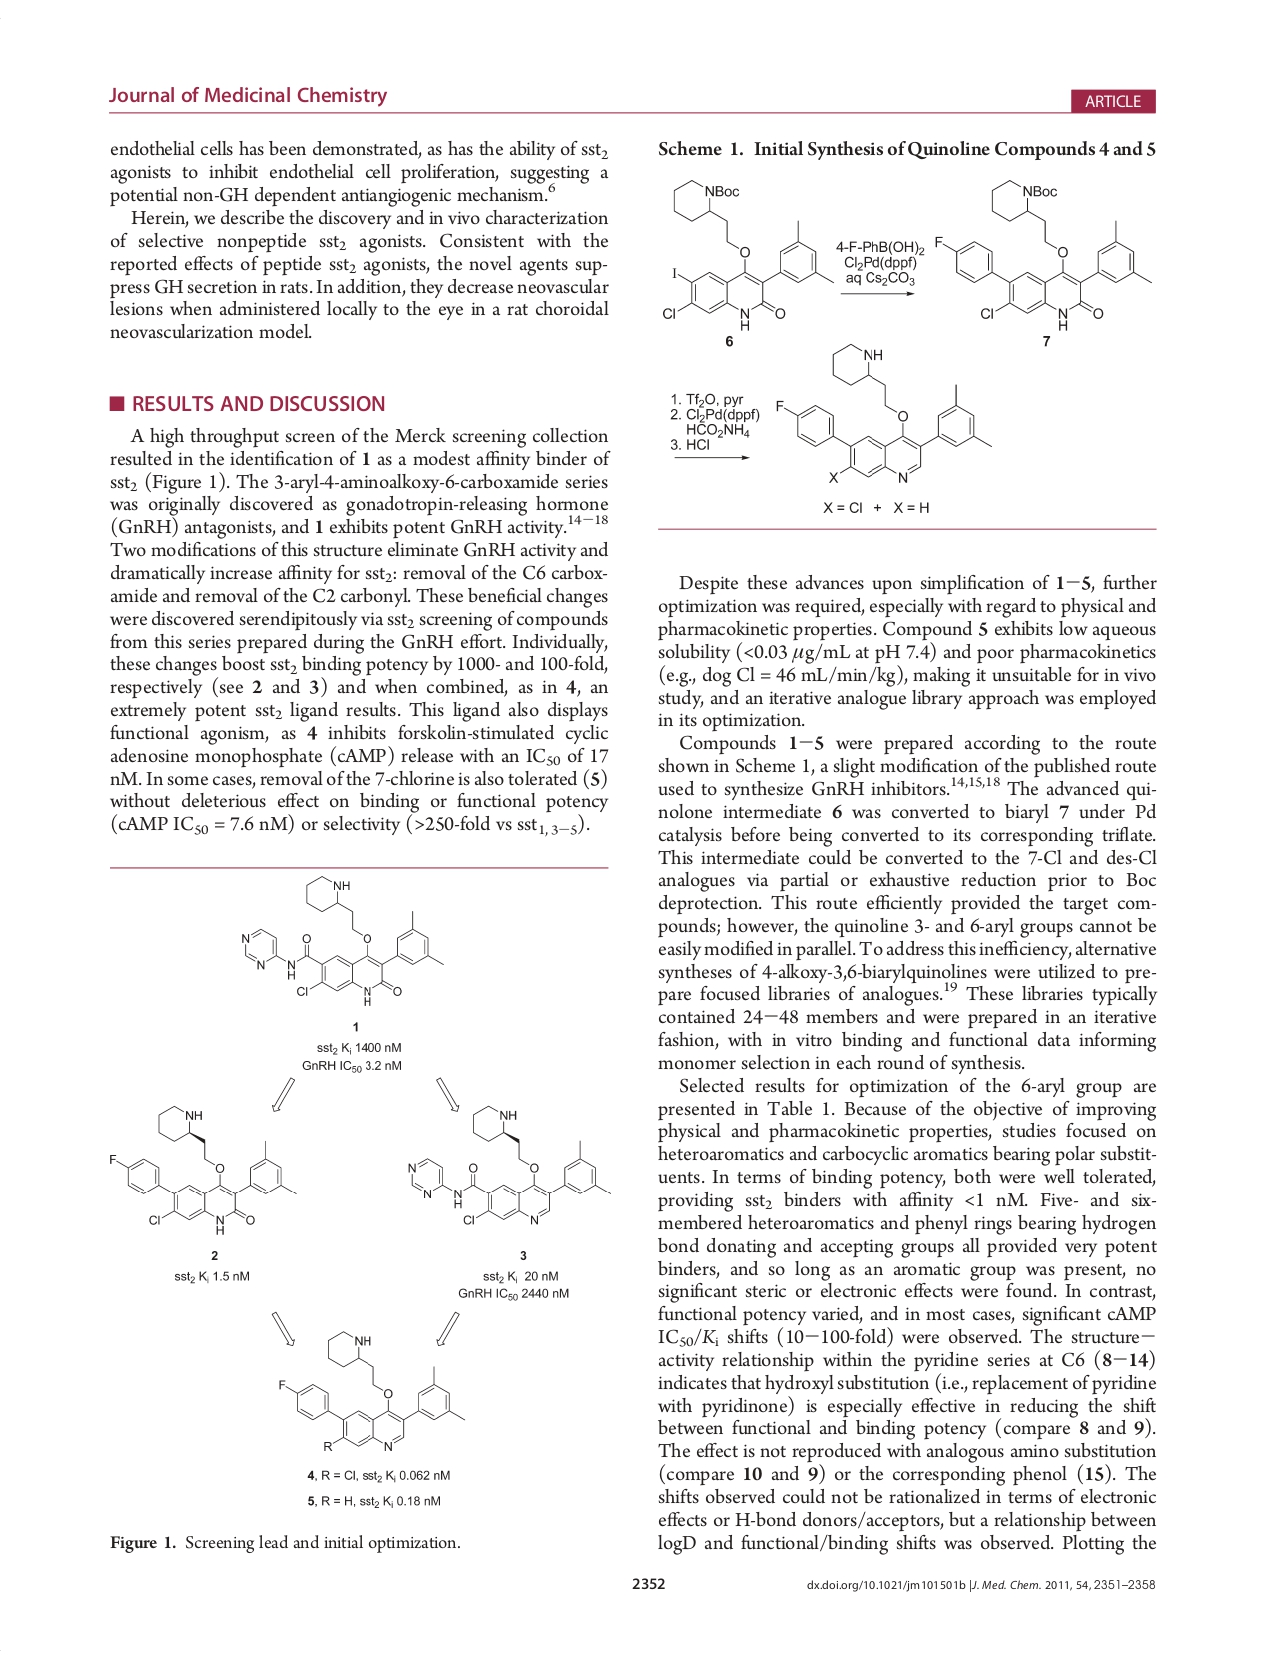exist_molecular: (931, 177, 1156, 332), (773, 338, 997, 489), (656, 176, 836, 332), (238, 871, 445, 1007), (104, 1102, 301, 1238), (406, 1102, 616, 1229), (277, 1327, 465, 1454)
